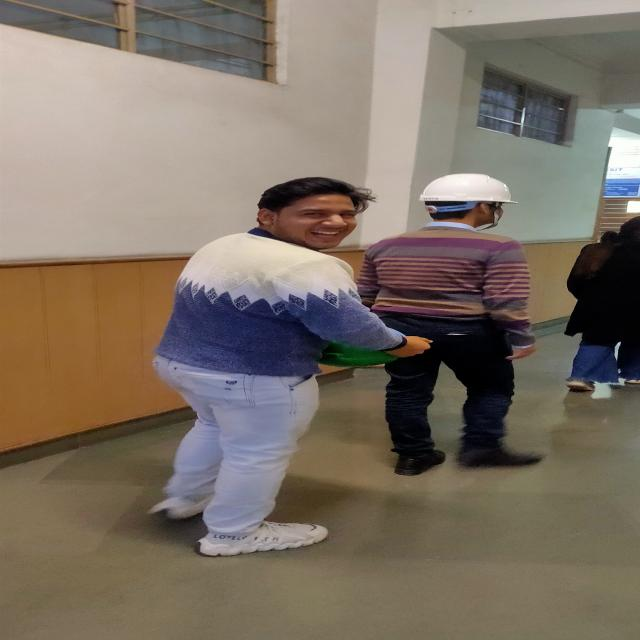no jacket: (367, 174, 545, 474)
unsafe: (156, 178, 432, 556), (569, 215, 640, 392)
